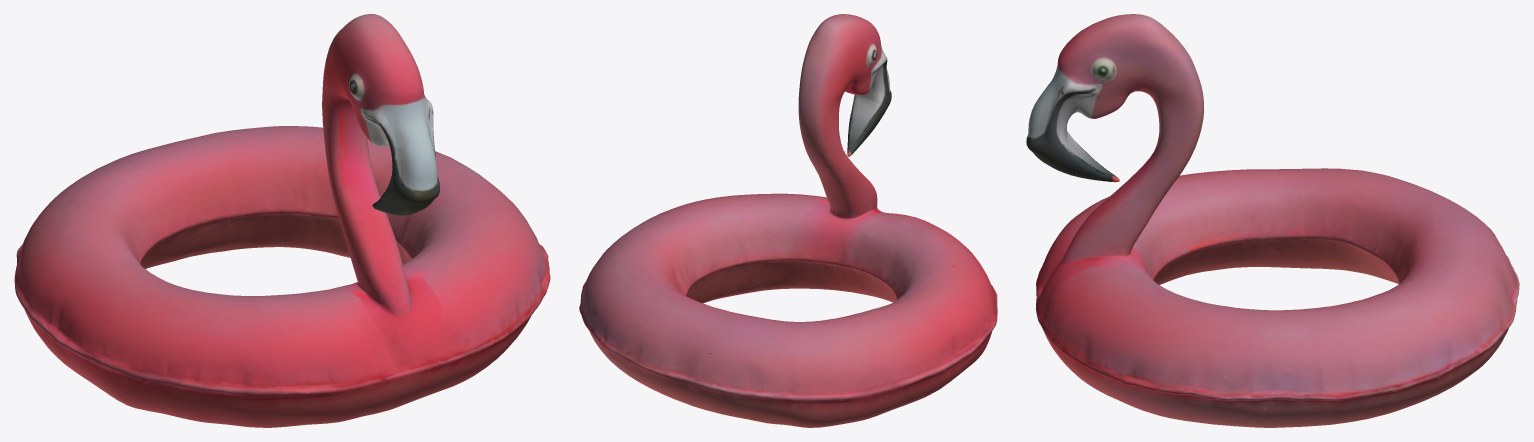
3 views of the same model, side by side, from view 1: azimuth 30°, elevation 25°; view 2: azimuth 150°, elevation 25°; view 3: azimuth 270°, elevation 25° (orthographic). The views are drawn at different scales.
Visible parts, largest first — view 1: Pink Flamingo Pool Float; view 2: Pink Flamingo Pool Float; view 3: Pink Flamingo Pool Float.
Part boxes in pixels (left/top/right/bottom): Pink Flamingo Pool Float: left=14, top=14, right=550, bottom=427; Pink Flamingo Pool Float: left=579, top=14, right=997, bottom=427; Pink Flamingo Pool Float: left=1026, top=14, right=1519, bottom=427.
Bounding box in the file's own units: 0.9299 × 0.7106 × 0.9314.
Materials: 1 (1 with a texture image).
